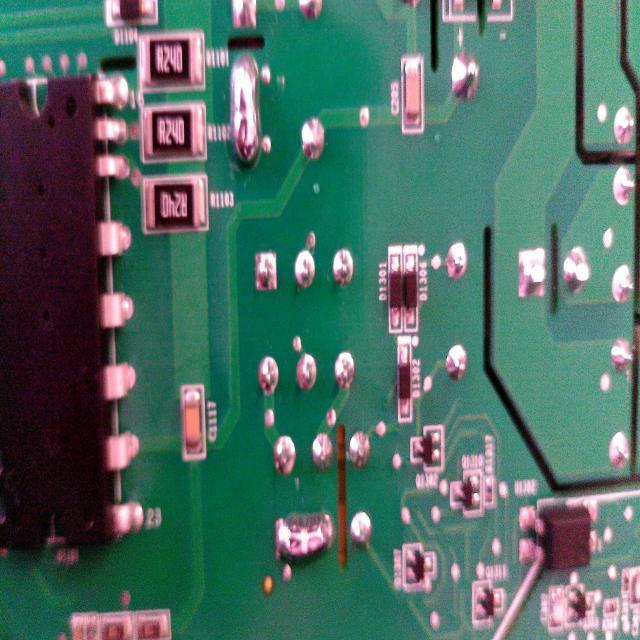Soldering shorted: (271, 505, 336, 574), (228, 55, 265, 171)
